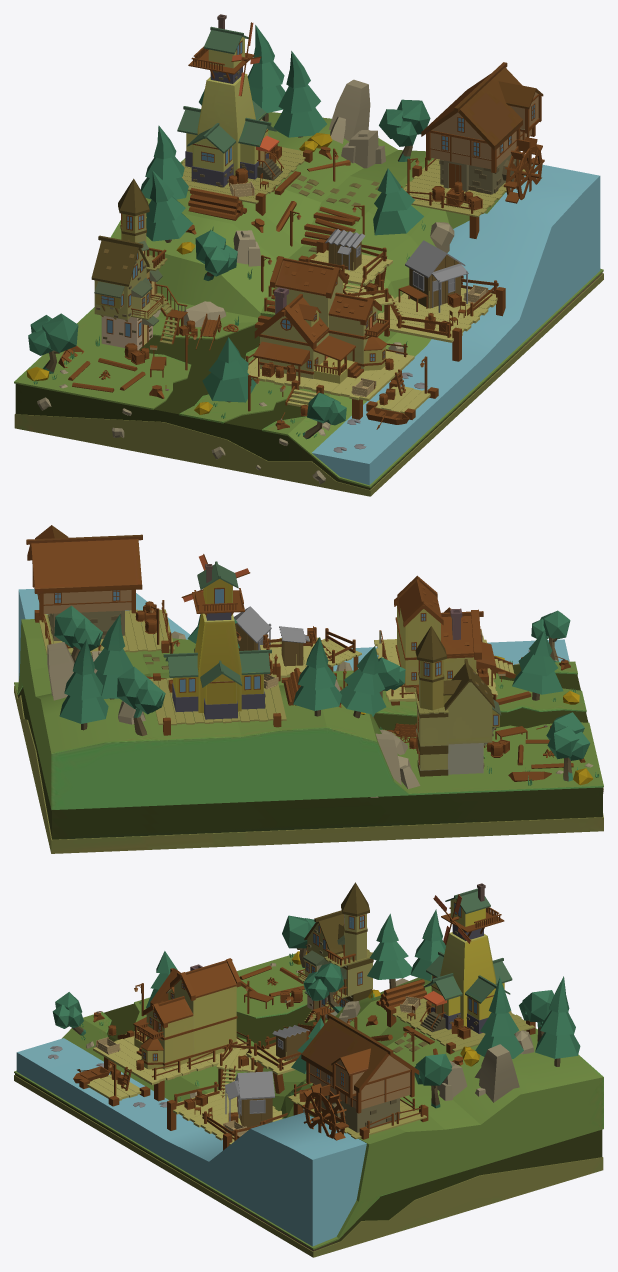
3 renders of one model, top to bottom at view 1: azimuth 30°, elevation 25°; view 2: azimuth 150°, elevation 25°; view 3: azimuth 270°, elevation 25°, orthographic. The views are drawn at different scales.
Visible parts, largest first — view 1: Soil_Mesh, Water_Mesh.001, Tree_2_Mesh.003, B_House_1_Mesh.023, B_House_5_Mesh.037, B_House_4_Mesh.033, Wood_floor_2_Mesh.015, Tree_1_Mesh.004, Rock_Mesh.002, B_House_3_Mesh.029, Wood_floor_1_Mesh.014, Wood_Mesh.005 (+18 smaller); view 2: Soil_Mesh, Tree_2_Mesh.003, B_House_5_Mesh.037, B_House_4_Mesh.033, B_House_3_Mesh.029, Tree_1_Mesh.004, B_House_1_Mesh.023, Rock_Mesh.002, Wood_floor_4_Mesh.017, Water_Mesh.001, Wood_floor_3_Mesh.016, Wood_floor_2_Mesh.015 (+9 smaller); view 3: Soil_Mesh, Water_Mesh.001, B_House_1_Mesh.023, B_House_5_Mesh.037, Tree_2_Mesh.003, B_House_4_Mesh.033, Tree_1_Mesh.004, Wood_floor_2_Mesh.015, B_House_3_Mesh.029, Wood_floor_1_Mesh.014, Rock_Mesh.002, Window_2_Mesh.024 (+12 smaller).
Boxes of the visible parts, box(x1,y1,x2,y2) form: Soil_Mesh: box(14, 112, 603, 496); Water_Mesh.001: box(312, 164, 600, 485); Tree_2_Mesh.003: box(140, 25, 423, 402); B_House_1_Mesh.023: box(253, 256, 389, 383); B_House_5_Mesh.037: box(421, 62, 543, 194); B_House_4_Mesh.033: box(177, 14, 282, 187); Wood_floor_2_Mesh.015: box(298, 236, 505, 361); Tree_1_Mesh.004: box(28, 89, 430, 439); Rock_Mesh.002: box(37, 79, 454, 484); B_House_3_Mesh.029: box(91, 178, 156, 350); Wood_floor_1_Mesh.014: box(245, 343, 438, 419); Wood_Mesh.005: box(68, 160, 360, 392); Soil_Mesh: box(14, 619, 603, 853); Tree_2_Mesh.003: box(59, 614, 563, 730); B_House_5_Mesh.037: box(26, 525, 142, 640); B_House_4_Mesh.033: box(163, 561, 271, 719); B_House_3_Mesh.029: box(415, 626, 499, 776); Tree_1_Mesh.004: box(54, 605, 590, 781); B_House_1_Mesh.023: box(394, 575, 496, 701); Rock_Mesh.002: box(47, 631, 603, 797); Wood_floor_4_Mesh.017: box(149, 668, 286, 735); Water_Mesh.001: box(18, 589, 569, 680); Wood_floor_3_Mesh.016: box(34, 600, 174, 654); Wood_floor_2_Mesh.015: box(260, 626, 361, 681); Soil_Mesh: box(14, 953, 603, 1257); Water_Mesh.001: box(16, 1038, 366, 1246); B_House_1_Mesh.023: box(133, 958, 241, 1069); B_House_5_Mesh.037: box(301, 1013, 419, 1132); Tree_2_Mesh.003: box(146, 909, 580, 1073); B_House_4_Mesh.033: box(420, 883, 512, 1033); Tree_1_Mesh.004: box(52, 915, 554, 1108); Wood_floor_2_Mesh.015: box(167, 1030, 308, 1150); B_House_3_Mesh.029: box(304, 882, 373, 1018); Wood_floor_1_Mesh.014: box(79, 1030, 253, 1106); Rock_Mesh.002: box(86, 963, 534, 1112); Window_2_Mesh.024: box(225, 1025, 309, 1121).
Bounding box in the file's own units: 38 × 16.29 × 35.78.
38 materials, 36 textured.
